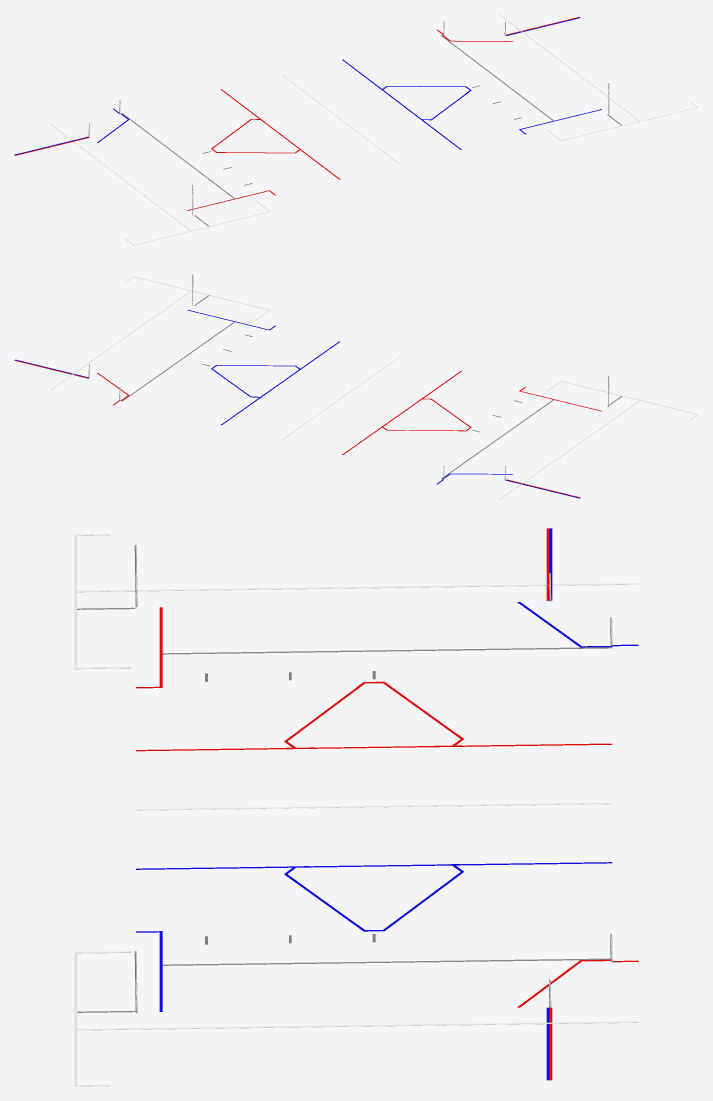
The model's file is CrescendoTape.fbx.
3 views of the same model, one above another, from view 1: azimuth 30°, elevation 25°; view 2: azimuth 150°, elevation 25°; view 3: azimuth 270°, elevation 25° (orthographic). The views are drawn at different scales.
Visible parts, largest first — view 1: no part large enough to name; view 2: no part large enough to name; view 3: Alliance Area.001, Alliance Area, Starting Line_Mid Line, Wing Line, Actual Starting Line, Endgame Tape.001, Actual Starting Line.001.
Boxes of the visible parts, box(x1,y1,x2,y2) form: Alliance Area.001: box(77, 1021, 638, 1030); Alliance Area: box(77, 583, 638, 592); Starting Line_Mid Line: box(136, 802, 612, 810); Wing Line: box(136, 862, 612, 869); Actual Starting Line: box(162, 647, 612, 654); Endgame Tape.001: box(284, 681, 463, 748); Actual Starting Line.001: box(162, 958, 610, 965).
Bounding box in the file's own units: 2256 × 120 × 975.
